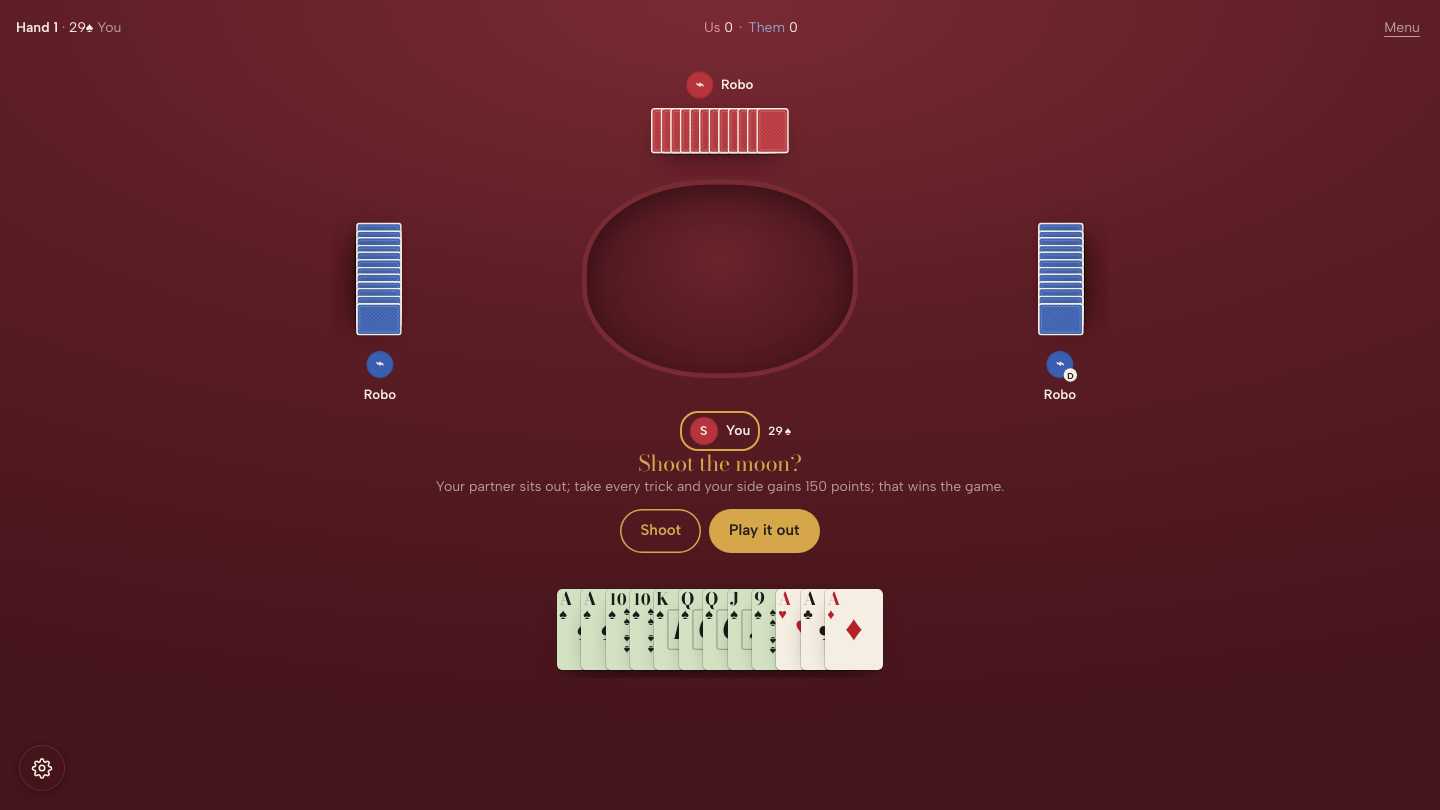
Test case: the shoot decision after the pass › sends a shoot from the prompt
Click the button with aria-label "Shoot the moon" at (661, 531), box 620,509 -> 701,553
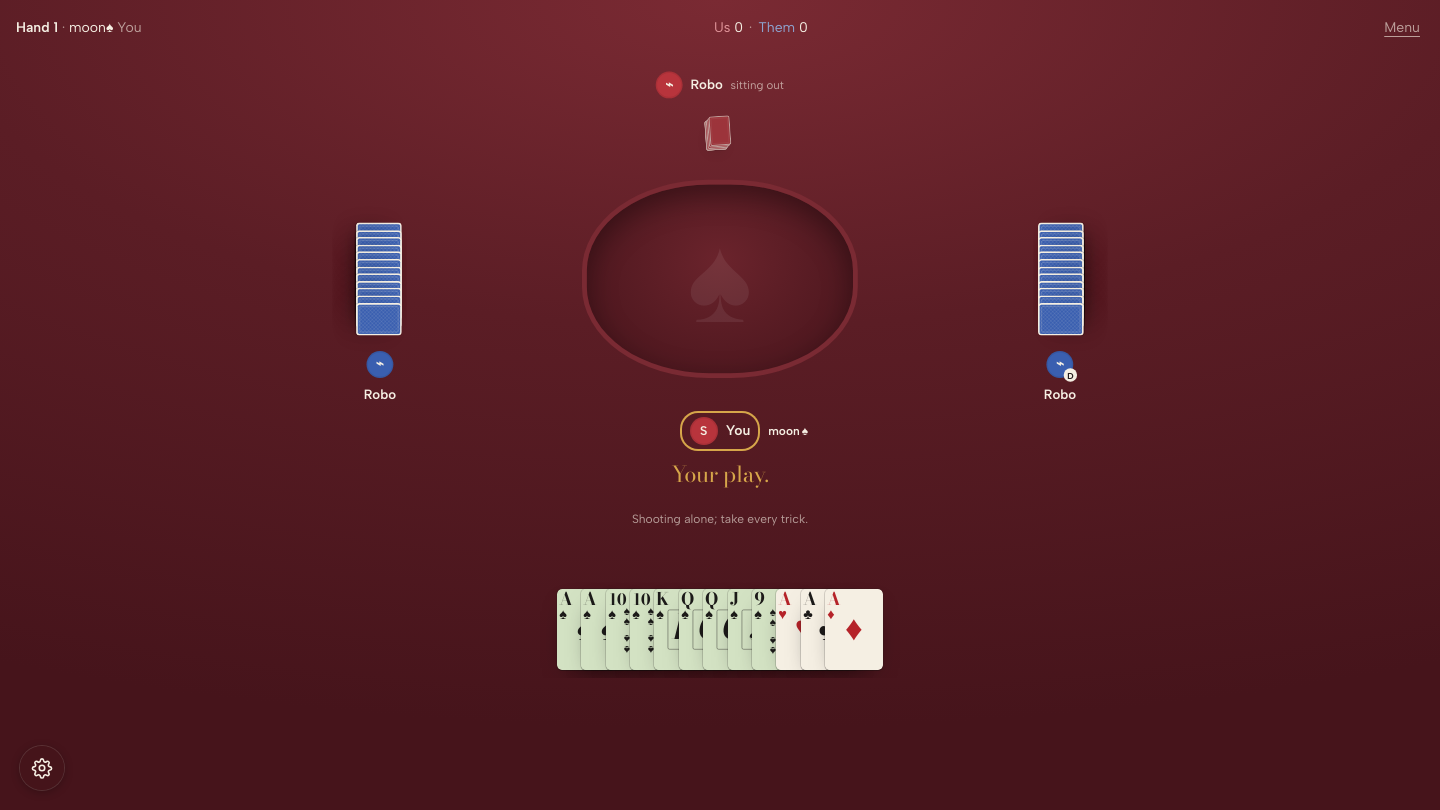
Now the text "sitting out" is shown, box 731,77 -> 784,92
